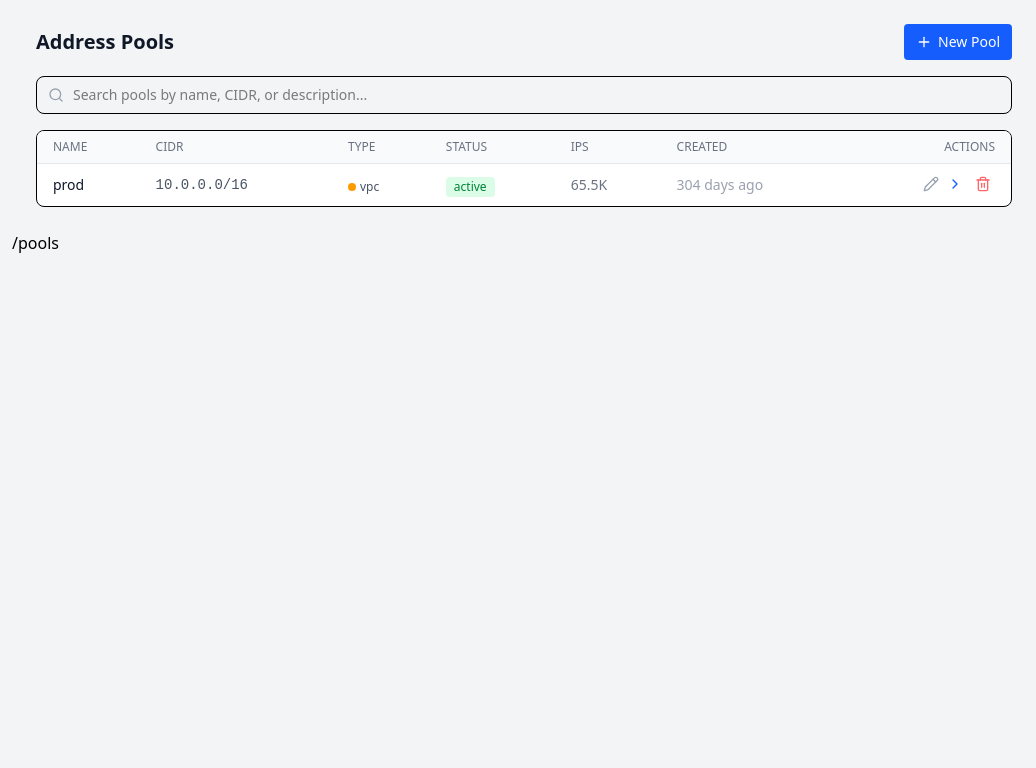
Test case: PoolsPage validation › shows inline create validation errors without submitting
Click the button "New Pool": (958, 42) [904,24,1012,60]
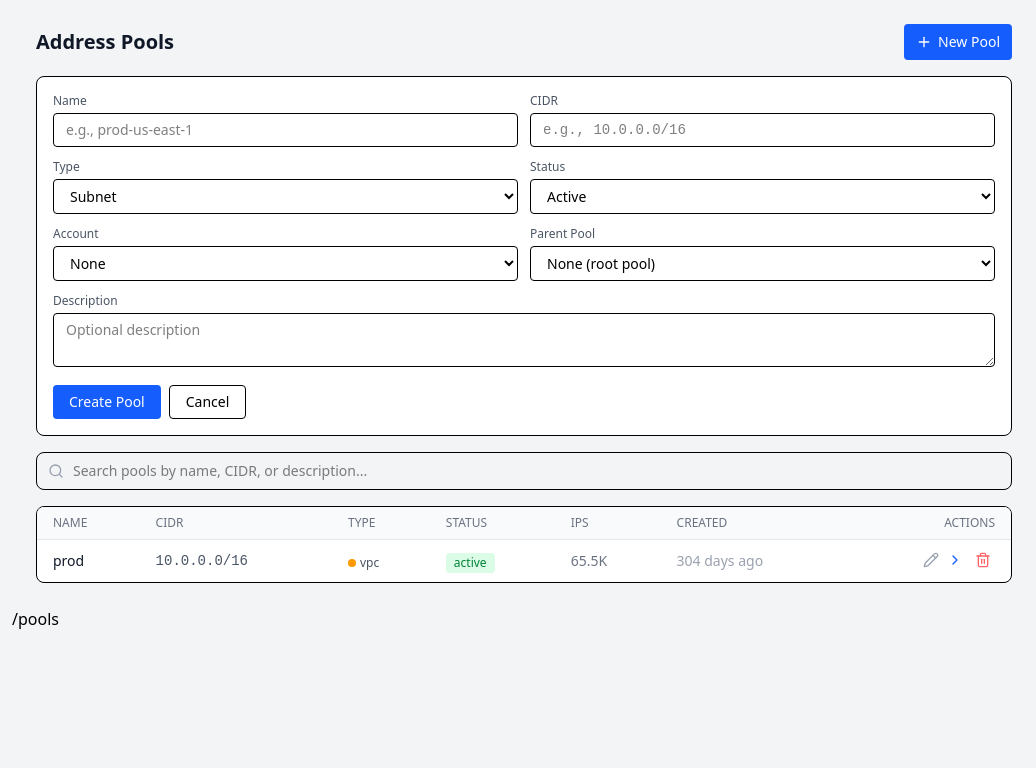
Click the button "Create Pool": (107, 402) [53,385,161,419]
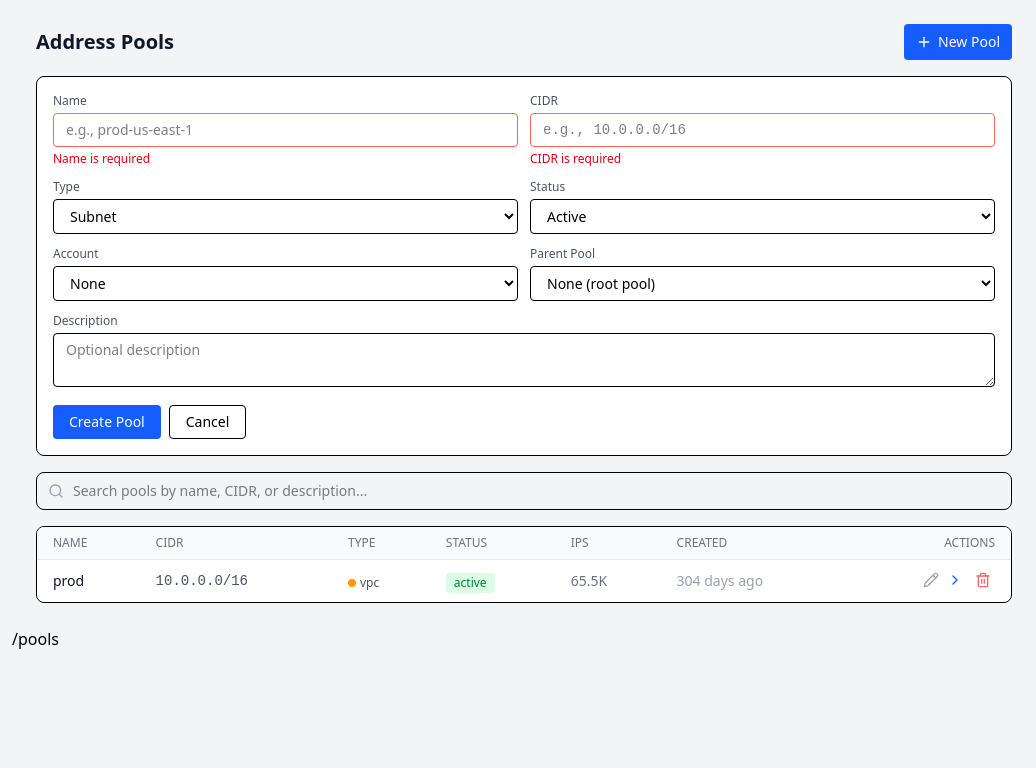
Expected: the text "Name is required" is shown, [53,150,150,167]
Expected: the text "CIDR is required" is shown, [530,150,621,167]
